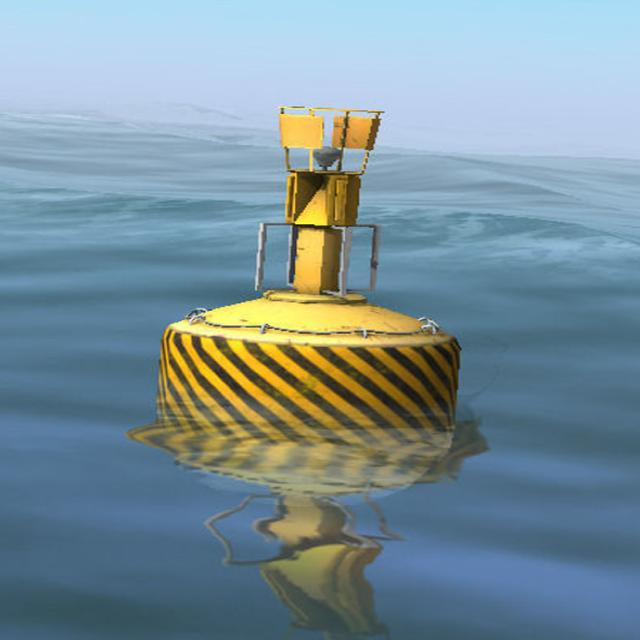buoy: (152, 94, 473, 429)
